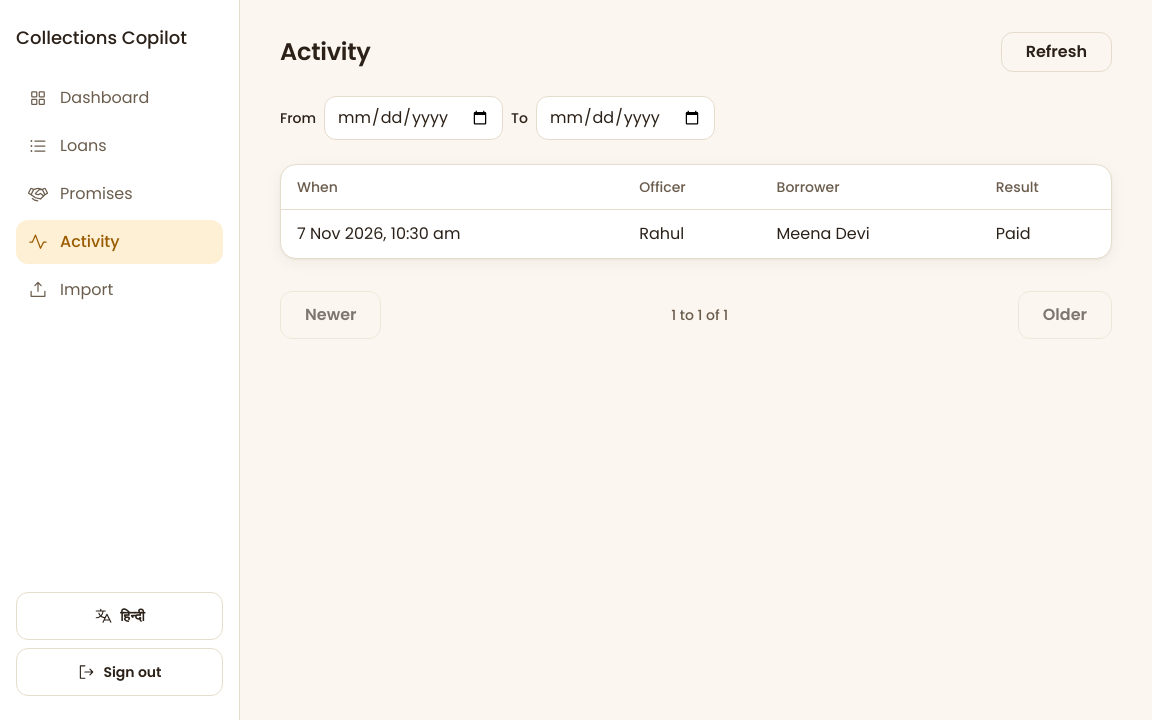
Scenario: activity › Refresh fetches the feed again and shows rows logged since
Expected: the text "Meena Devi" is shown, [761,210,980,258]
Expected: the text "Ravi Kumar" is not shown
Step 1. Click the button "Refresh" → (1056, 52), box [1001,32,1112,72]
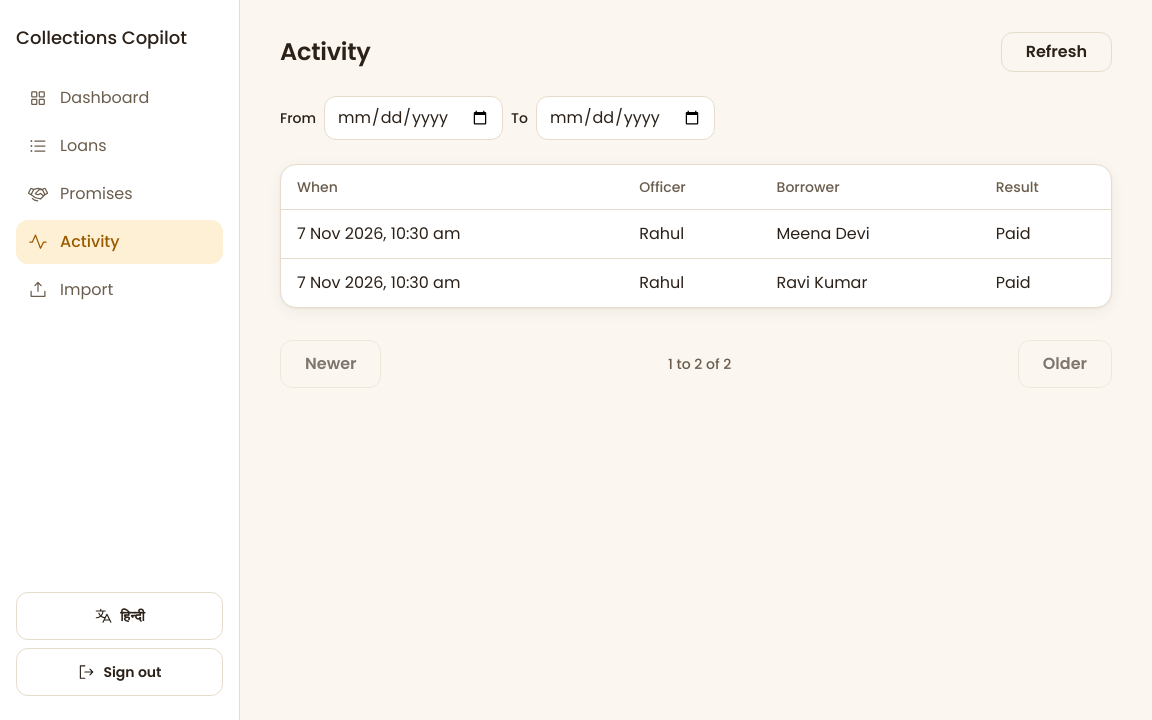
Expected: the text "Ravi Kumar" is shown, [761,258,980,307]
